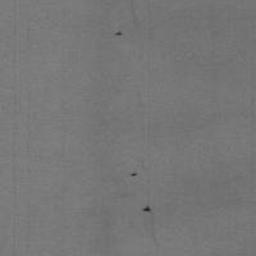Inclusion: (141, 205, 152, 214), (129, 172, 140, 178), (114, 31, 124, 37)
